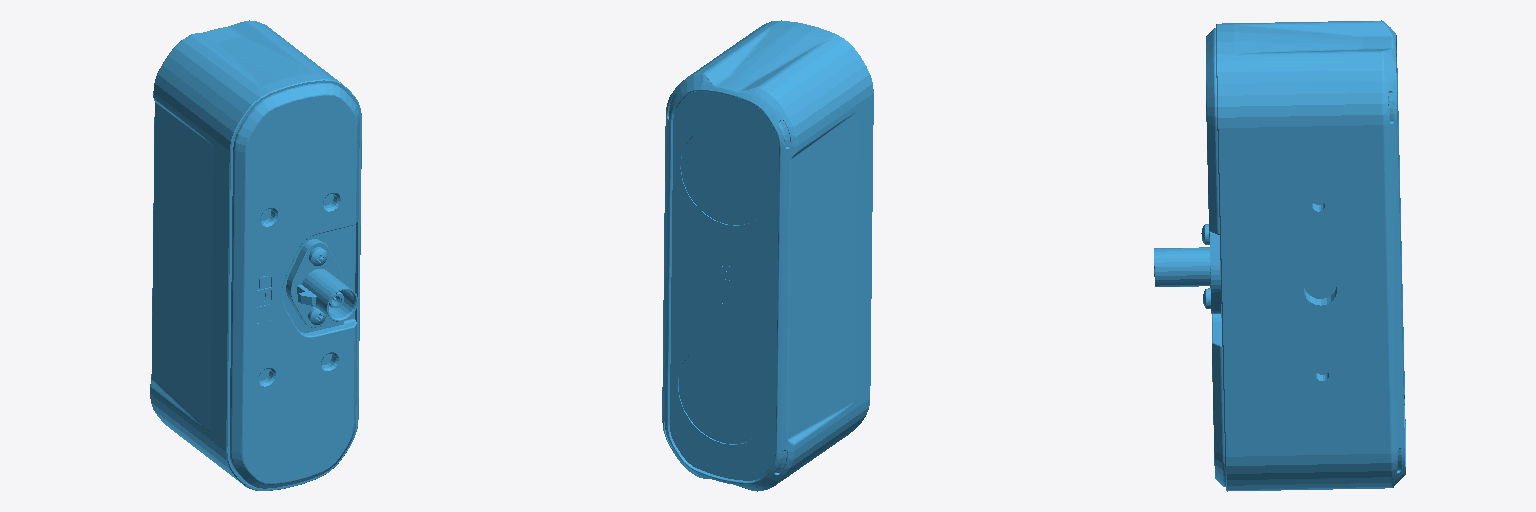
The robot description file, URDF, robot "pit_robot_assembly":
<?xml version="1.0" encoding="utf-8"?>
<robot name="pit_robot_assembly">

  <!-- ========= Shared materials ========= -->
  <material name="yellowish">
    <color rgba="1.0 0.85 0.40 1.0"/>
  </material>
  <material name="ur5_blue">
    <color rgba="0.0 0.639 0.878 1.0"/>
  </material>
  <material name="pit_transparent">
    <!-- same color you used, but alpha 0.15 -->
    <color rgba="0.79216 0.81961 0.93333 0.15"/>
  </material>

  <!-- ========= Environment: PIT (kept static) ========= -->
  <!-- <link
    name="pit_base_link">
    <inertial>
      <origin
        xyz="0.91548 0.18867 0.75538"
        rpy="0 0 0" />
      <mass
        value="10549" />
      <inertia
        ixx="10402"
        ixy="17.679"
        ixz="-164.62"
        iyy="22590"
        iyz="10.455"
        izz="28428" />
    </inertial>
    <visual>
      <origin
        xyz="0 0 0"
        rpy="3.14 0 0" />
      <geometry>
        <mesh
          filename="package://hanford_wire_manipulator_with_camera_description/meshes/robot/tank_base_link.STL" />
      </geometry>
      <material name="pit_transparent"/>
    </visual>
    <collision>
      <origin
        xyz="0 0 0"
        rpy="0 0 0" />
      <geometry>
        <mesh
          filename="package://hanford_wire_manipulator_with_camera_description/meshes/robot/tank_base_link.STL" />
      </geometry>
    </collision>
  </link> -->

  <!-- <link
    name="pit_base_link">
    <inertial>
      <origin
        xyz="0.91548 0.18867 0.75538"
        rpy="0 0 0" />
      <mass
        value="10549" />
      <inertia
        ixx="10402"
        ixy="17.679"
        ixz="-164.62"
        iyy="22590"
        iyz="10.455"
        izz="28428" />
    </inertial>
  </link> -->

  <!-- ========= Helper frame at pipe entrance ========= -->

  <link name="pipe_entry"/>
  <!-- <joint name="pit_to_entry" type="fixed">
    <parent link="pit_base_link"/>
    <child  link="pipe_entry"/> -->
    <!-- Tune this to put pipe_entry exactly at the pipe mouth -->
    <!-- <origin xyz="0 0 0" rpy="0 0 0"/>
  </joint> -->

  <!-- ========= Robot carriage: slides DOWN the pipe ========= -->
  <link name="ceiling_mount"/>

  <!-- Prismatic: robot moves (pit stays fixed). Axis -Z => increase -> down -->
  <joint name="insert_into_pipe" type="prismatic">
    <parent link="pipe_entry"/>
    <child  link="ceiling_mount"/>
    <!-- Flip robot to hang: rotate PI about X (keeps X-axis joint sign) -->
    <origin xyz="0 0 0" rpy="3.14159265359 0 0"/>
    <axis xyz="0 0 -1"/>
    <limit lower="-2.0" upper="2.0" effort="1000" velocity="0.5"/>
  </joint>

  <!-- ========= robot (hanging) ========= -->
  <link name="base_link">
    <inertial>
      <origin xyz="-1.56333912816404e-05 -7.23490511796809e-14 0.248531752474478" rpy="0 0 0"/>
      <mass value="0.439458396832792"/>
      <inertia ixx="0.00243026269783921" ixy="-4.03980358205094e-13" ixz="-1.26462019025067e-16"
               iyy="0.00229501663801487" iyz="1.28625168179374e-17" izz="0.000304666843833"/>
    </inertial>
    <visual>
      <origin xyz="0 0 0" rpy="0 0 0"/>
      <geometry>
        <mesh filename="package://hanford_wire_manipulator_with_camera_description/meshes/robot/base_link.STL"/>
      </geometry>
      <material name="yellowish"/>
    </visual>
    <collision>
      <origin xyz="0 0 0" rpy="0 0 0"/>
      <geometry>
        <mesh filename="package://hanford_wire_manipulator_with_camera_description/meshes/robot/base_link.STL"/>
      </geometry>
    </collision>
  </link>


  <!-- Yaw DOF to rotate around the pipe axis (Z) after insertion -->
  <link name="yaw_mount"/>

  <joint name="rotate_in_pipe" type="revolute">
    <parent link="ceiling_mount"/>
    <child  link="yaw_mount"/>
    <origin xyz="0 0 0" rpy="0 0 0"/>
    <axis xyz="0 0 1"/>
    <limit lower="-3.14159265359" upper="3.14159265359" effort="50" velocity="1.5"/>
  </joint>

  <joint name="yaw_mount_to_base" type="fixed">
    <parent link="yaw_mount"/>
    <child  link="base_link"/>
    <origin xyz="0 0 0" rpy="0 0 0"/>
  </joint>


  <link name="link_1">
    <inertial>
      <origin xyz="-1.3293e-05 5.6923e-12 0.20807" rpy="0 0 0"/>
      <mass value="0.51682"/>
      <inertia ixx="0.0025795" ixy="4.1003e-13" ixz="3.0072e-15"
               iyy="0.0024287" iyz="-5.3653e-13" izz="0.00032057"/>
    </inertial>
    <visual>
      <origin xyz="0 0 0.07" rpy="0 0 0"/>
      <geometry>
        <mesh filename="package://hanford_wire_manipulator_with_camera_description/meshes/robot/link_1.STL"/>
      </geometry>
      <material name="ur5_blue"/>
    </visual>
    <collision>
      <origin xyz="0 0 0.07" rpy="0 0 0"/>
      <geometry>
        <mesh filename="package://hanford_wire_manipulator_with_camera_description/meshes/robot/link_1.STL"/>
      </geometry>
    </collision>
  </link>
  <joint name="joint_1" type="revolute">
    <origin xyz="0 -0.0011869 0.48" rpy="0.016254 0 0"/>
    <parent link="base_link"/>
    <child  link="link_1"/>
    <axis xyz="1 0 0"/>
    <limit lower="-1.57" upper="1.57" effort="20" velocity="20"/>
  </joint>

  <link name="link_2">
    <inertial>
      <origin xyz="-2.2427e-13 7.6046e-12 0.20814" rpy="0 0 0"/>
      <mass value="0.51663"/>
      <inertia ixx="0.0025795" ixy="4.0855e-13" ixz="4.1575e-15"
               iyy="0.0024287" iyz="-4.5089e-13" izz="0.00032057"/>
    </inertial>
    <visual>
      <origin xyz="0 0 0.07" rpy="0 0 0"/>
      <geometry>
        <mesh filename="package://hanford_wire_manipulator_with_camera_description/meshes/robot/link_2.STL"/>
      </geometry>
      <material name="yellowish"/>
    </visual>
    <collision>
      <origin xyz="0 0 0.07" rpy="0 0 0"/>
      <geometry>
        <mesh filename="package://hanford_wire_manipulator_with_camera_description/meshes/robot/link_2.STL"/>
      </geometry>
    </collision>
  </link>

  <joint name="joint_2" type="revolute">
    <origin xyz="0 -0.000102354980813121 0.55" rpy="0.0055098530179333 0 0"/>
    <parent link="link_1"/>
    <child  link="link_2"/>
    <axis xyz="1 0 0"/>
    <limit lower="-1.57" upper="1.57" effort="20" velocity="20"/>
  </joint>

  <link name="end_effector">
    <inertial>
      <origin xyz="0 0 0" rpy="0 0 0"/>
      <mass value="0.20"/> <!-- <<< TUNE -->
      <inertia ixx="0.0005" ixy="0" ixz="0" iyy="0.0005" iyz="0" izz="0.0005"/>
    </inertial>
    <visual>
      <origin xyz="0 0 0" rpy="0 0 0"/>   
      <geometry>
        <mesh filename="package://hanford_wire_manipulator_with_camera_description/meshes/robot/end_effector.STL" scale="0.001 0.001 0.001"/>
      </geometry>
      <material name="yellowish"/>
    </visual>
    <collision>
      <origin xyz="0 0 0" rpy="0 0 0"/>
      <geometry>
        <mesh filename="package://hanford_wire_manipulator_with_camera_description/meshes/robot/end_effector.STL" scale="0.001 0.001 0.001"/>
      </geometry>
    </collision>
  </link>

  <joint name="end_effector_joint" type="revolute">
    <origin xyz="0 -0.000402354980813121 0.55" rpy="0 -1.57 1.57"/>
    <parent link="link_2"/>
    <child  link="end_effector"/>
    <axis xyz="0 1 0"/>
    <limit lower="-1.57" upper="1.57" effort="20" velocity="20"/>
  </joint>

  <!-- Spinning pulley link -->
  <link name="pulley_drive">
    <inertial>
      <origin xyz="0 0 0" rpy="0 0 0"/>
      <mass value="0.30"/> <!-- <<< TUNE or replace with real inertia -->
      <inertia ixx="0.001" ixy="0" ixz="0" iyy="0.001" iyz="0" izz="0.001"/>
    </inertial>
    <visual>
      <!-- Place the pulley at the wrist face of link_2 -->
      <origin xyz="0 0 0" rpy="0 0 0"/> <!-- <<< TUNE offset -->
      <geometry>
        <mesh filename="package://hanford_wire_manipulator_with_camera_description/meshes/robot/pulley.STL" scale="0.001 0.001 0.001"/>
      </geometry>
      <material name="ur5_blue"/>
    </visual>
    <collision>
      <origin xyz="0 0 0" rpy="0 0 0"/> <!-- same as visual -->
      <geometry>
        <mesh filename="package://hanford_wire_manipulator_with_camera_description/meshes/robot/pulley.STL" scale="0.001 0.001 0.001"/>
      </geometry>
    </collision>
  </link>

  <joint name="joint_3_pulley_spin" type="revolute">
    <parent link="end_effector"/> <child link="pulley_drive"/>
    <origin xyz=" 0.145 0.019 0" rpy="-1.57 0 0"/>   <!-- center of pulley bore  <<< TUNE -->
    <axis xyz="0 0 1"/>                  
    <limit lower="-3.14159265359" upper="3.14159265359" effort="10" velocity="6.28"/>
    <dynamics damping="0.02" friction="0.0"/>
  </joint>

  <link name="camera_link"/>

  <joint name="camera_link_to_pulley" type="fixed">
    <parent link="pulley_drive"/> <child link="camera_link"/>
    <!-- rotate from x-forward,z-up to z-forward,x-right,y-down -->
    <origin xyz="0 0 -0.04" rpy="0 0 0"/>
  </joint>

  <!-- ZED X Mini base link -->
  <link name="zed_x_mini_base">
    <visual>
      <origin xyz="0.0125841 0.0156099 0.00667 " rpy="1.5707963 0.0000001 3.1415925"/>
      <geometry>
        <mesh filename="package://hanford_wire_manipulator_with_camera_description/meshes/zed_x_mini/Mesh_056.obj" scale="1. 1. 1."/>
      </geometry>
    </visual>
    <visual>
      <origin xyz="0.0125679 0.0156099 0.00667 " rpy="1.5707963 0.0000001 3.1415925"/>
      <geometry>
        <mesh filename="package://hanford_wire_manipulator_with_camera_description/meshes/zed_x_mini/Mesh_057.obj" scale="1. 1. 1."/>
      </geometry>
    </visual>
    <visual>
      <origin xyz="-0.0000162 0.0205866 0.01178 " rpy="0. -1.5707961 -1.5707964"/>
      <geometry>
        <mesh filename="package://hanford_wire_manipulator_with_camera_description/meshes/zed_x_mini/Mesh_058.obj" scale="1. 1. 1."/>
      </geometry>
    </visual>
    <visual>
      <origin xyz="0.0067838 0.0228566 0.01178 " rpy="-1.570797 0.0000002 3.1415925"/>
      <geometry>
        <mesh filename="package://hanford_wire_manipulator_with_camera_description/meshes/zed_x_mini/Mesh_063.obj" scale="1. 1. 1."/>
      </geometry>
    </visual>
    <visual>
      <origin xyz="-0.0068162 0.0228566 0.01178 " rpy="-1.570797 0.0000002 3.1415925"/>
      <geometry>
        <mesh filename="package://hanford_wire_manipulator_with_camera_description/meshes/zed_x_mini/Mesh_064.obj" scale="1. 1. 1."/>
      </geometry>
    </visual>
    <visual>
      <origin xyz="0.0125727 0.0156099 0.00667 " rpy="1.5707963 0.0000001 3.1415925"/>
      <geometry>
        <mesh filename="package://hanford_wire_manipulator_with_camera_description/meshes/zed_x_mini/Mesh_065.obj" scale="1. 1. 1."/>
      </geometry>
    </visual>
    <visual>
      <origin xyz="0.0302985 0.0108403 0.0035155" rpy="1.5707966 0. 0. "/>
      <geometry>
        <mesh filename="package://hanford_wire_manipulator_with_camera_description/meshes/zed_x_mini/Mesh_075.obj" scale="1. 1. 1."/>
      </geometry>
    </visual>
    <visual>
      <origin xyz="0.0802065 0.0108403 0.0035155" rpy="1.5707966 0. 0. "/>
      <geometry>
        <mesh filename="package://hanford_wire_manipulator_with_camera_description/meshes/zed_x_mini/Mesh_077.obj" scale="1. 1. 1."/>
      </geometry>
    </visual>
    <collision>
      <origin xyz="0.0125841 0.0156099 0.00667 " rpy="1.5707963 0.0000001 3.1415925"/>
      <geometry>
        <mesh filename="package://hanford_wire_manipulator_with_camera_description/meshes/zed_x_mini/Mesh_056.obj" scale="1. 1. 1."/>
      </geometry>
    </collision>
    <collision>
      <origin xyz="0.0125679 0.0156099 0.00667 " rpy="1.5707963 0.0000001 3.1415925"/>
      <geometry>
        <mesh filename="package://hanford_wire_manipulator_with_camera_description/meshes/zed_x_mini/Mesh_057.obj" scale="1. 1. 1."/>
      </geometry>
    </collision>
    <collision>
      <origin xyz="-0.0000162 0.0205866 0.01178 " rpy="0. -1.5707961 -1.5707964"/>
      <geometry>
        <mesh filename="package://hanford_wire_manipulator_with_camera_description/meshes/zed_x_mini/Mesh_058.obj" scale="1. 1. 1."/>
      </geometry>
    </collision>
    <collision>
      <origin xyz="0.0067838 0.0228566 0.01178 " rpy="-1.570797 0.0000002 3.1415925"/>
      <geometry>
        <mesh filename="package://hanford_wire_manipulator_with_camera_description/meshes/zed_x_mini/Mesh_063.obj" scale="1. 1. 1."/>
      </geometry>
    </collision>
    <collision>
      <origin xyz="-0.0068162 0.0228566 0.01178 " rpy="-1.570797 0.0000002 3.1415925"/>
      <geometry>
        <mesh filename="package://hanford_wire_manipulator_with_camera_description/meshes/zed_x_mini/Mesh_064.obj" scale="1. 1. 1."/>
      </geometry>
    </collision>
    <collision>
      <origin xyz="0.0125727 0.0156099 0.00667 " rpy="1.5707963 0.0000001 3.1415925"/>
      <geometry>
        <mesh filename="package://hanford_wire_manipulator_with_camera_description/meshes/zed_x_mini/Mesh_065.obj" scale="1. 1. 1."/>
      </geometry>
    </collision>
  </link>

  <joint name="camera_link_to_zed_x_mini" type="fixed">
    <parent link="camera_link"/>
    <child  link="zed_x_mini_base"/>
    <origin xyz="0 0 0" rpy="0 0 0"/>
  </joint>

  <link name="zed_left_camera_frame"/>
  <link name="zed_right_camera_frame"/>
  <link name="zed_imu_frame"/>

  <joint name="zed_base_to_left" type="fixed">
    <parent link="zed_x_mini_base"/>
    <child  link="zed_left_camera_frame"/>
    <origin xyz="0.025 -0.015 0.015" rpy="1.5707964 0 3.1415927"/>
  </joint>

  <joint name="zed_base_to_right" type="fixed">
    <parent link="zed_x_mini_base"/>
    <child  link="zed_right_camera_frame"/>
    <origin xyz="-0.025 -0.015 0.015" rpy="1.5707964 0 3.1415927"/>
  </joint>

  <joint name="zed_base_to_imu" type="fixed">
    <parent link="zed_x_mini_base"/>
    <child  link="zed_imu_frame"/>
    <origin xyz="0.025 -0.015 0.015" rpy="0 0 -1.5707964"/>
  </joint>

  <link name="zed_left_camera_optical_frame"/>
  <link name="zed_right_camera_optical_frame"/>

  <!-- camera_frame -> camera_optical_frame -->
  <joint name="zed_left_to_optical" type="fixed">
    <parent link="zed_left_camera_frame"/>
    <child  link="zed_left_camera_optical_frame"/>
    <origin xyz="0 0 0" rpy="-1.57079632679 0 -1.57079632679"/>
  </joint>

  <joint name="zed_right_to_optical" type="fixed">
    <parent link="zed_right_camera_frame"/>
    <child  link="zed_right_camera_optical_frame"/>
    <origin xyz="0 0 0" rpy="-1.57079632679 0 -1.57079632679"/>
  </joint>
</robot>

--- Facts derived from the render (not from the file) ---
3 views of the same robot in one strip: view 1: azimuth 30°, elevation 25°; view 2: azimuth 150°, elevation 25°; view 3: azimuth 270°, elevation 25° (orthographic).
Robot: pit_robot_assembly — 15 links, 14 joints (5 revolute, 1 prismatic, 8 fixed); root link pipe_entry; default pose: all joints at 0.
Visible links, largest first — view 1: zed_x_mini_base; view 2: zed_x_mini_base; view 3: zed_x_mini_base.
Link boxes in pixels (x1,y1,x2,y2): zed_x_mini_base: [150, 20, 361, 490]; zed_x_mini_base: [662, 20, 873, 491]; zed_x_mini_base: [1154, 20, 1405, 491].
Bounding box of the posed robot: 0.0318 × 0.0484 × 0.0935 m (x, y, z).
8 mesh visuals loaded from 13 distinct referenced files (8 OBJ); not drawn: 5 (reference not matched to a file when rendering).
